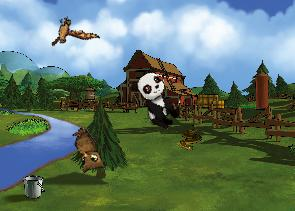eagle: (42, 6, 100, 59)
owl: (60, 125, 110, 179)
panda: (127, 66, 186, 133)
